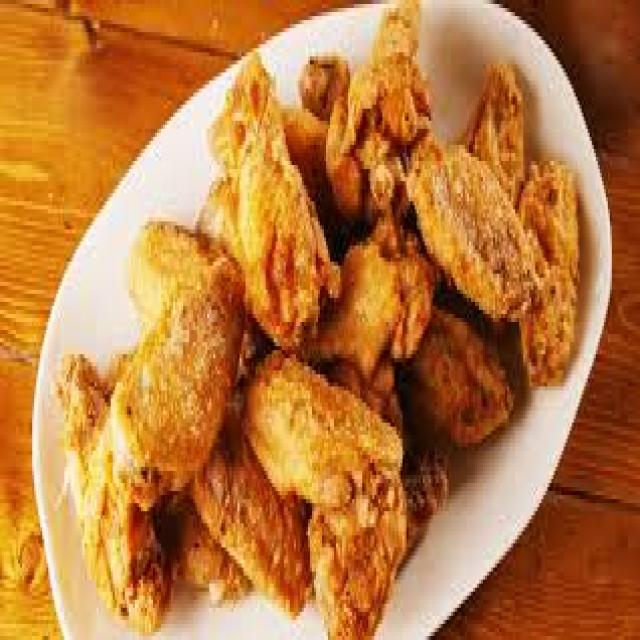Frango: (44, 12, 584, 640)
